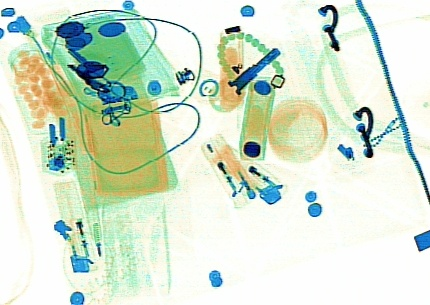lighter: (197, 135, 257, 209), (211, 143, 284, 203), (51, 176, 95, 273)
